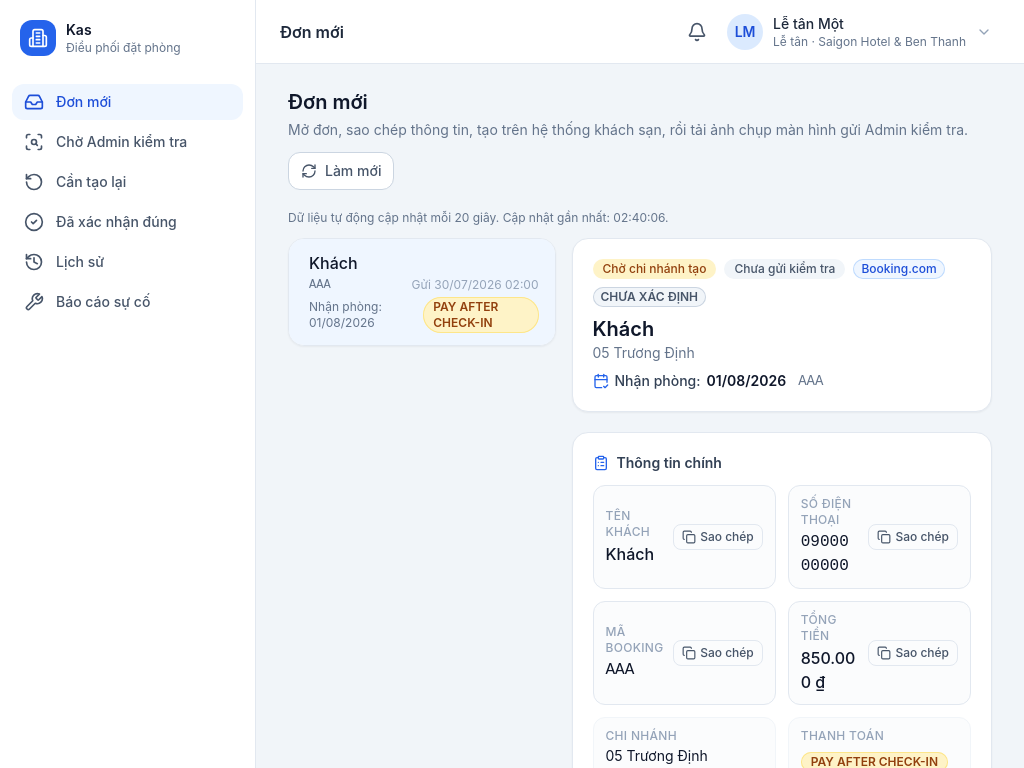
Test case: NewBookingsPage — receptionist master-detail inbox › keeps the existing data and warns when a refresh fails
expect the 1st text "AAA" is shown: met, box [309,277,331,293]
# Force a failing refresh.
Click the button with aria-label "Làm mới danh sách": [341, 171] box [288,152,394,190]
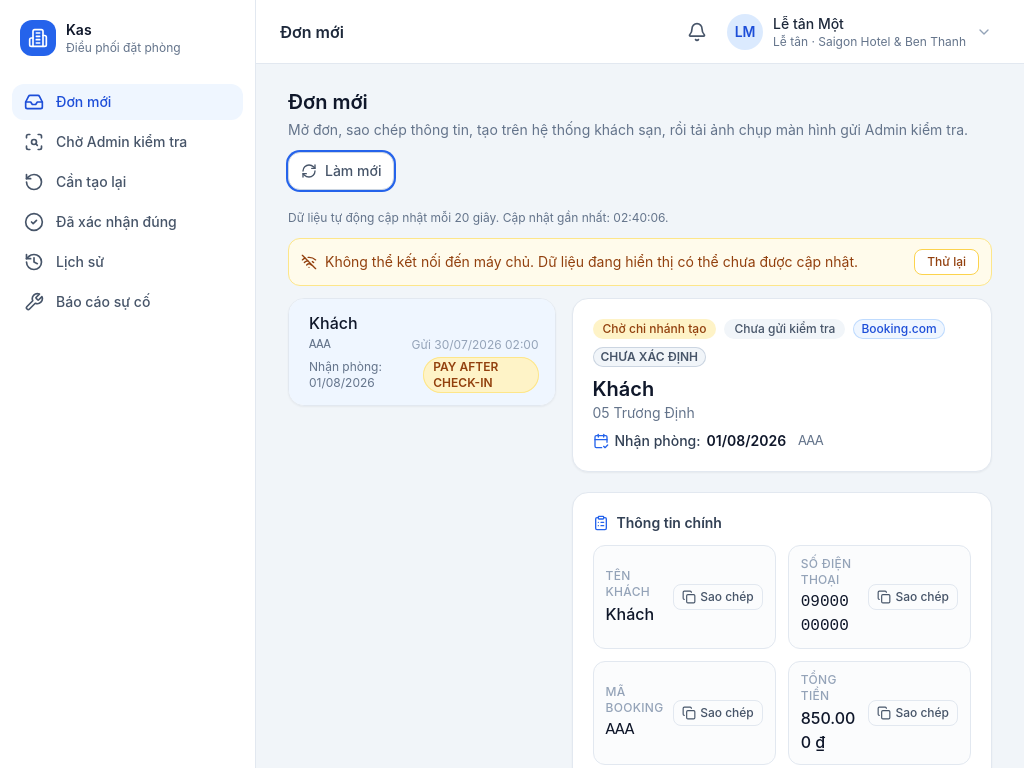
expect the 1st text "AAA" is shown: met, box [309,337,331,353]
expect the text "Không thể kết nối đến máy chủ. Dữ liệu đang hiển thị có thể chưa được cập nhật." is shown: met, box [301,252,858,272]
